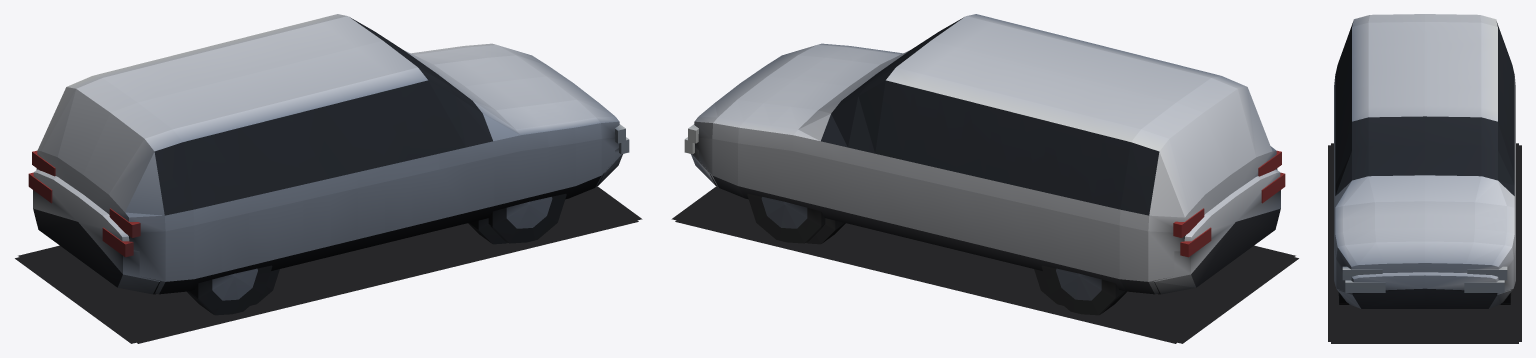
File: cars.glb
3 renders of one model, left to right at view 1: azimuth 30°, elevation 25°; view 2: azimuth 150°, elevation 25°; view 3: azimuth 270°, elevation 25°, orthographic. The views are drawn at different scales.
Parts seen in each view (by area): view 1: suv, sedan, hatch; view 2: suv, sedan, hatch; view 3: suv, sedan, hatch.
Boxes of the visible parts, <box> form: suv: <box>18,14,638,343</box>; sedan: <box>15,137,642,343</box>; hatch: <box>87,202,598,331</box>; suv: <box>675,14,1295,343</box>; sedan: <box>671,137,1298,343</box>; hatch: <box>715,202,1222,331</box>; suv: <box>1328,14,1521,341</box>; sedan: <box>1331,143,1518,343</box>; hatch: <box>1335,286,1514,327</box>.
Size of the model in its own units: 4.95 by 1.73 by 2.02.
